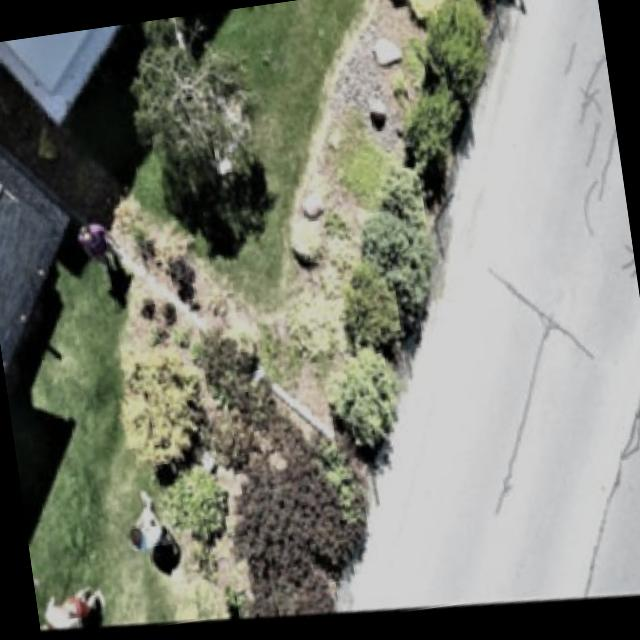Person: (109, 489, 180, 569), (67, 220, 136, 294), (37, 587, 114, 640)
